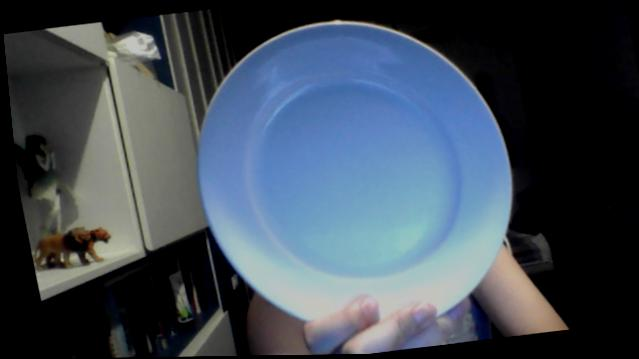Plate: (197, 21, 511, 320)
